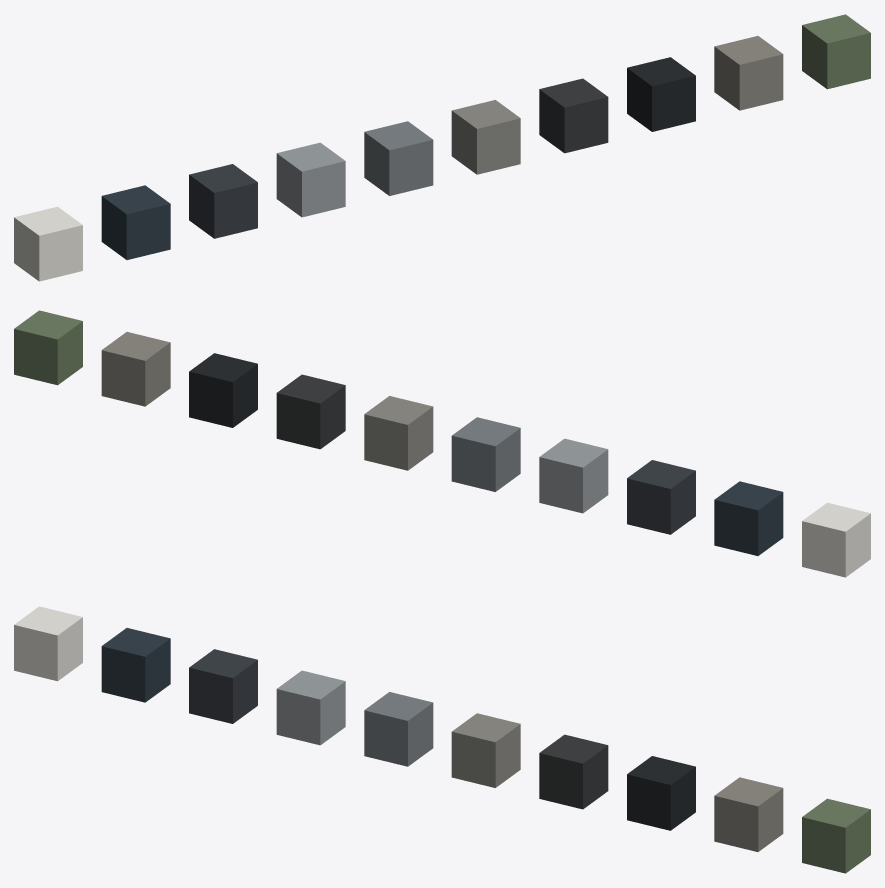
File: library.glb
3 views of the same model, one above another, from view 1: azimuth 30°, elevation 25°; view 2: azimuth 150°, elevation 25°; view 3: azimuth 330°, elevation 25° (orthographic).
Visible parts, largest first — view 1: library; view 2: library; view 3: library.
Part boxes in pixels (x1,y1,x2,y2): library: (14,14,870,281); library: (14,310,870,577); library: (14,606,870,873).
Bounding box in the file's own units: 19 × 1 × 1.
